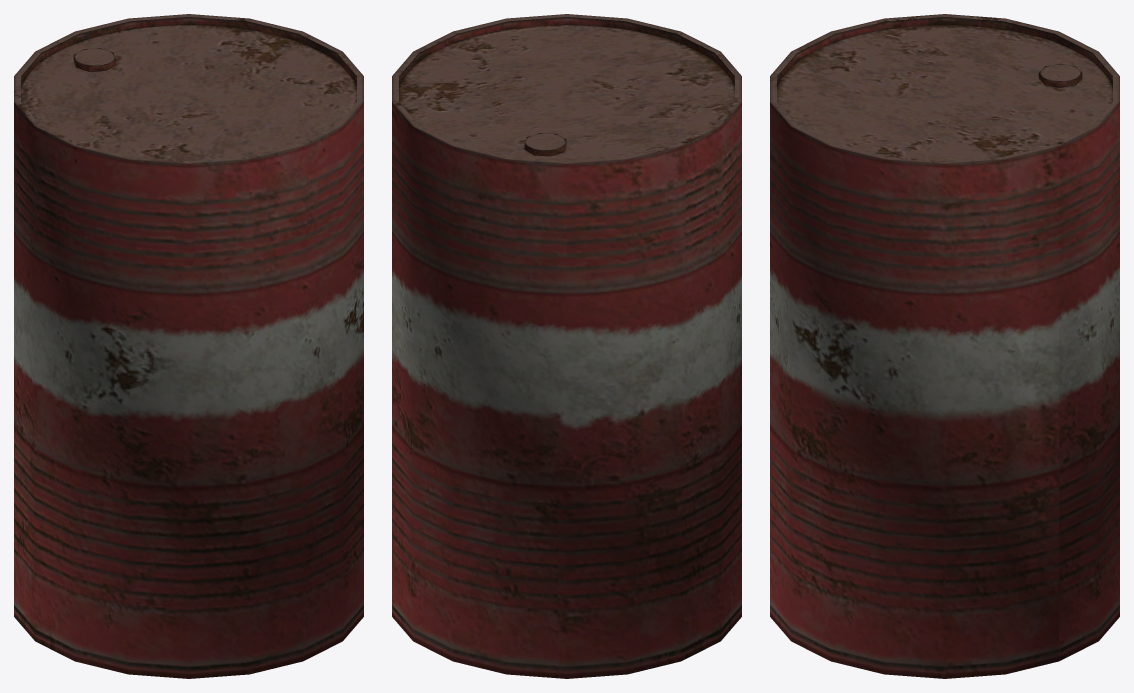
Rendered from Cover_BcYt07.glb.
3 renders of one model, left to right at view 1: azimuth 30°, elevation 25°; view 2: azimuth 150°, elevation 25°; view 3: azimuth 270°, elevation 25°, orthographic.
Visible parts, largest first — view 1: xiutz_bc_yt_07; view 2: xiutz_bc_yt_07; view 3: xiutz_bc_yt_07.
Boxes of the visible parts, x1,y1,x2,y2 form: xiutz_bc_yt_07: (14,14,363,678); xiutz_bc_yt_07: (392,14,741,678); xiutz_bc_yt_07: (770,14,1119,678).
Bounding box in the file's own units: 1.11 × 1.78 × 1.09.
Materials: 1 (1 with a texture image).
